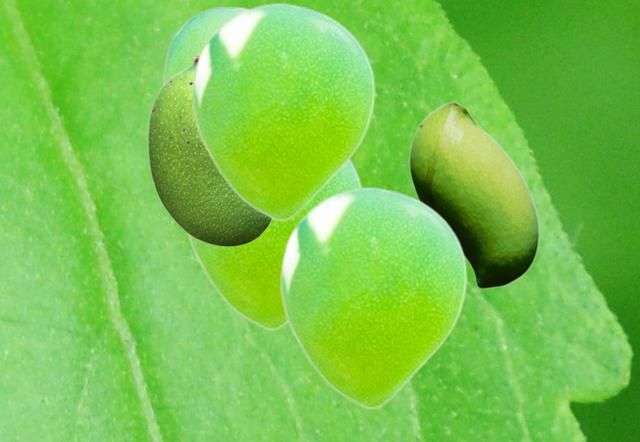green_mango: (280, 186, 466, 409), (192, 2, 374, 221), (184, 158, 362, 330), (408, 100, 538, 288), (147, 54, 272, 246), (162, 6, 248, 84)
